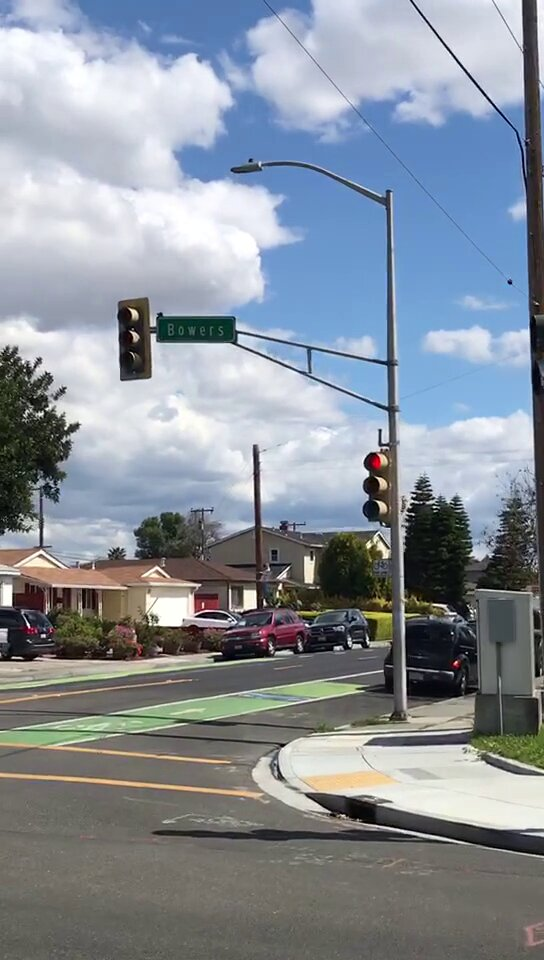red_light: (363, 453, 388, 523)
